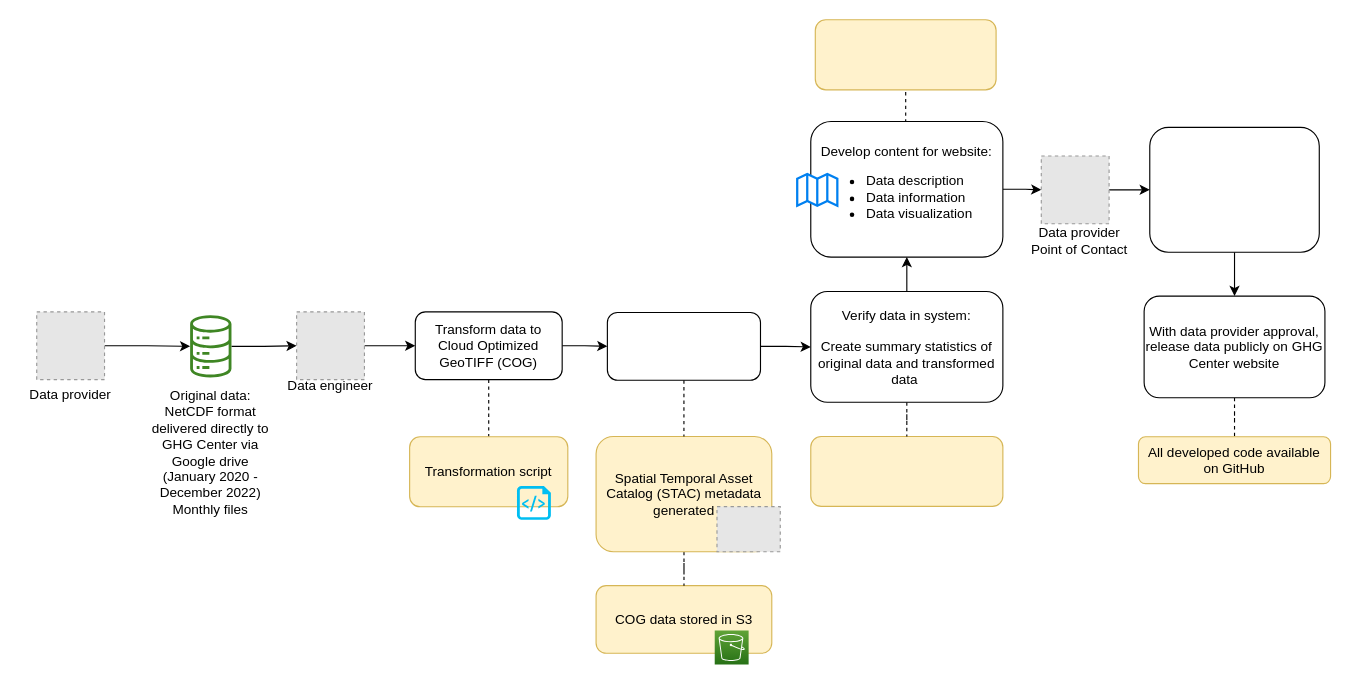
The diagram is 1350 pixels wide and 685 high, and some of its shapes have lost their labels. Grey dashed boxes stand in for pictures. Each missing label, with the centre of its shape:
"Data Intake Processing and Verification Report" goes at (x=906, y=470).
"Data provider verify website content and data visualization" goes at (x=1234, y=189).
"Ingest data to GHG Center system" goes at (x=683, y=345).
"Sample Data Usage Jupyter Notebook" goes at (x=905, y=54).
